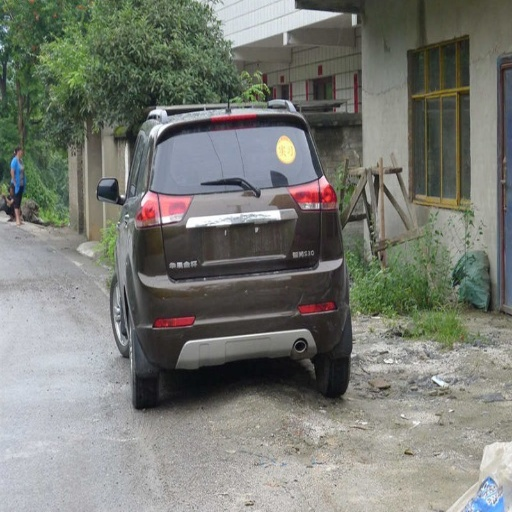back_bumper: (130, 227, 348, 368)
trunk: (137, 180, 319, 290)
